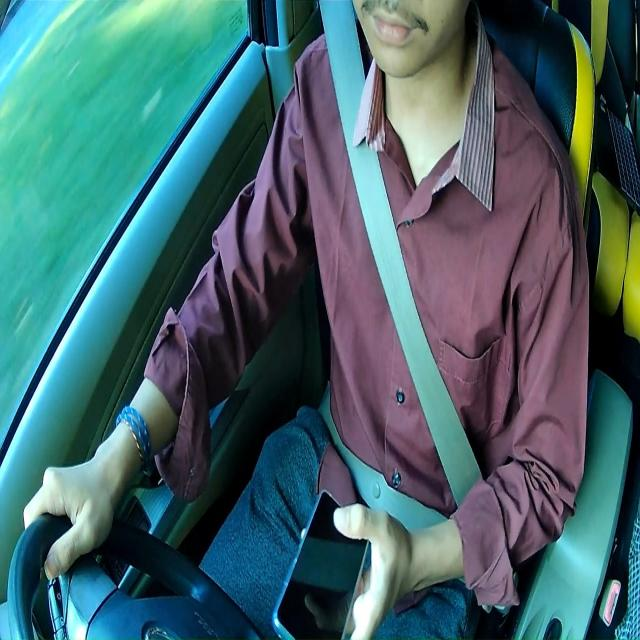phone: (272, 487, 368, 639)
